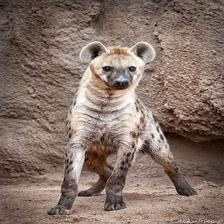hyena: (53, 39, 200, 214)
